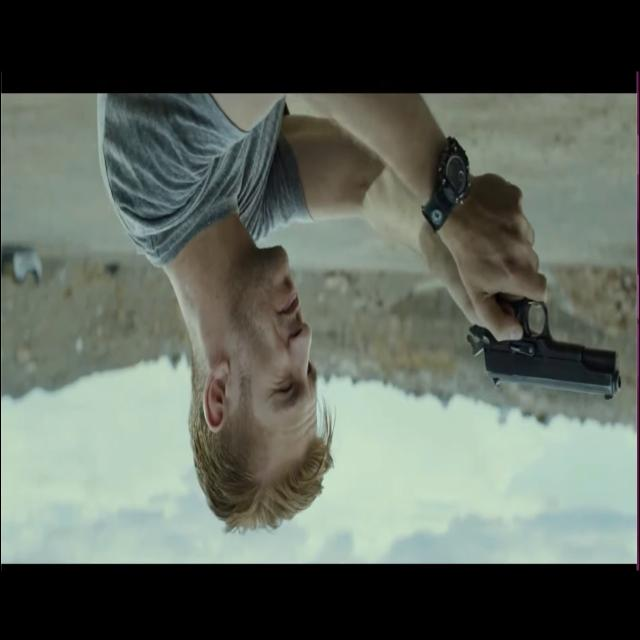weapons: (460, 248, 624, 422)
